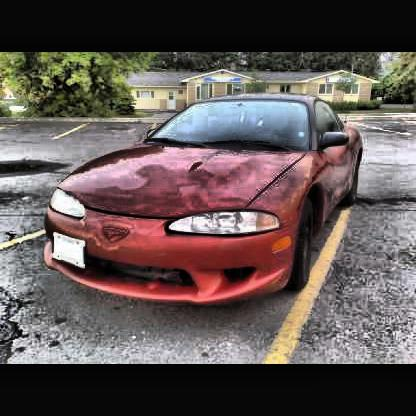Eagle Talon Hatchback 1998: (45, 101, 364, 315)
